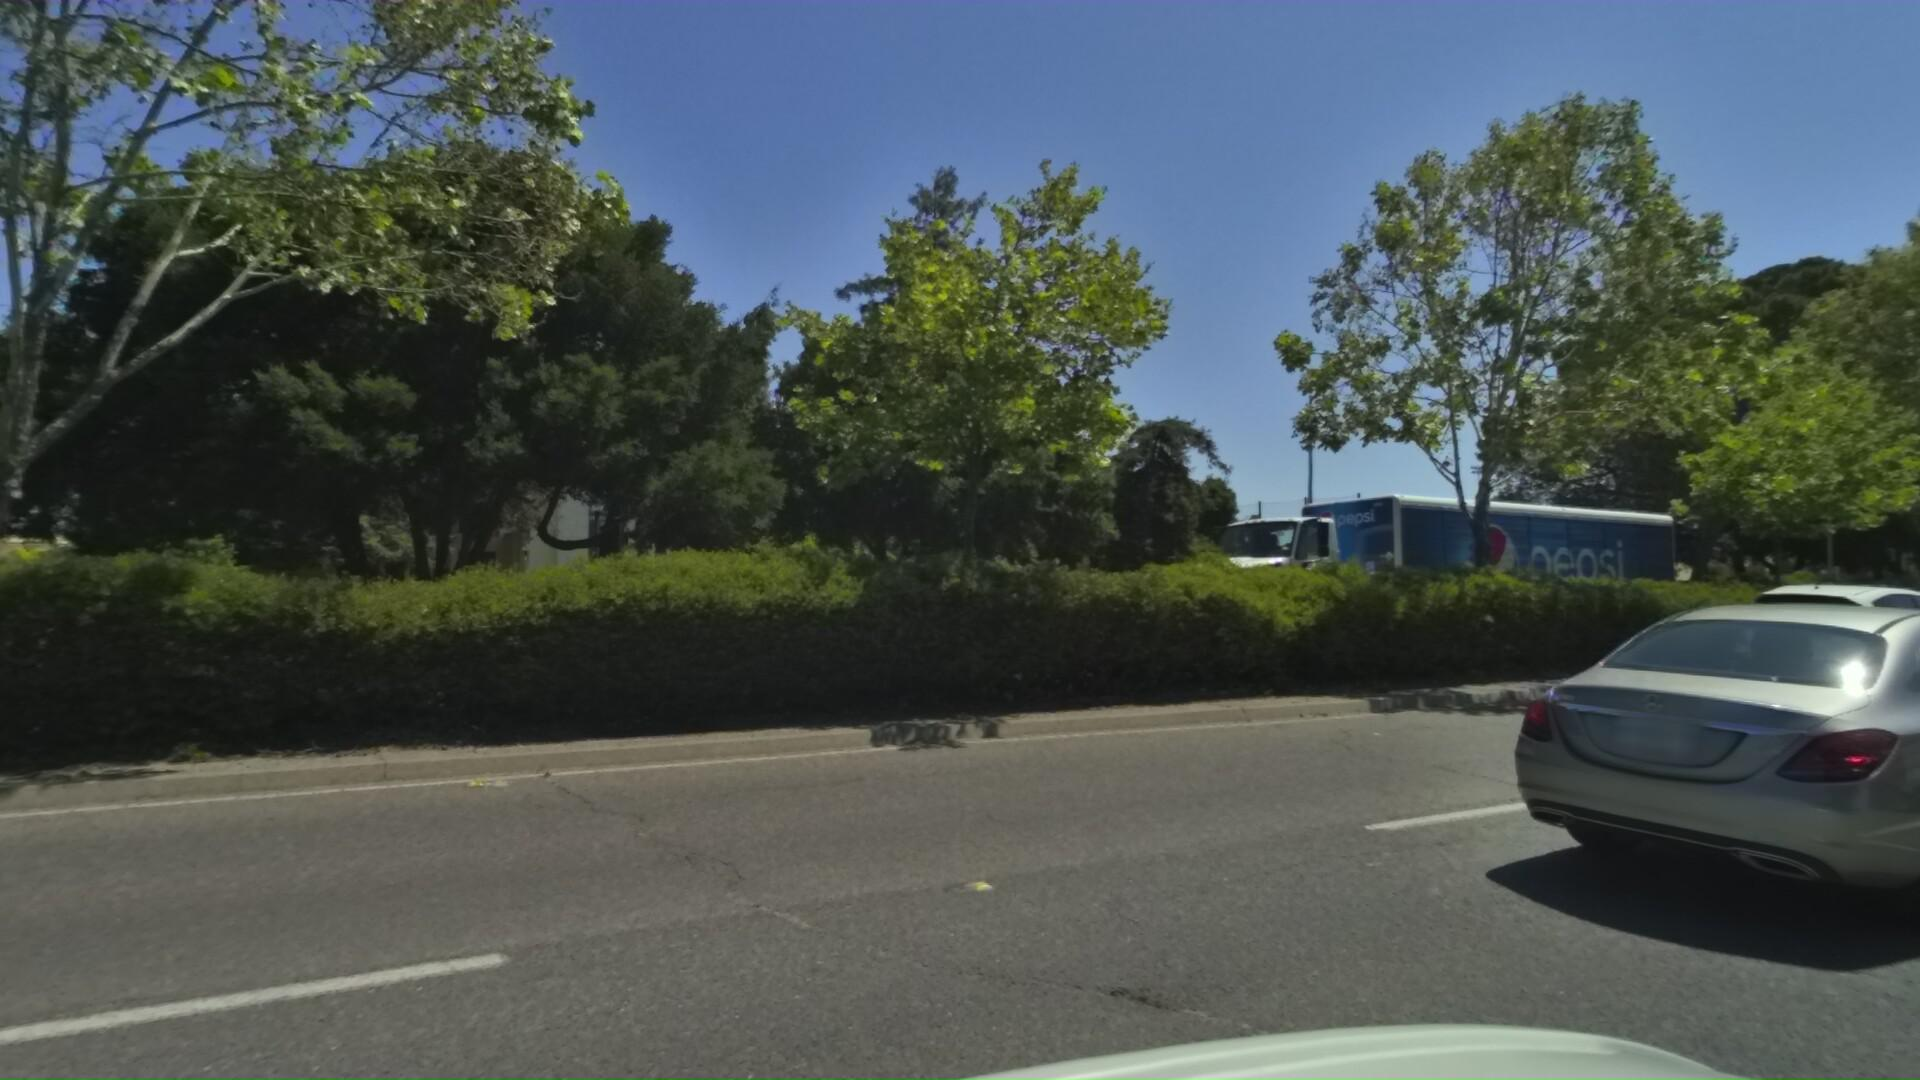car: (1469, 593, 1920, 994), (1710, 575, 1920, 724), (0, 555, 90, 713)
truck: (1135, 473, 1671, 579)
